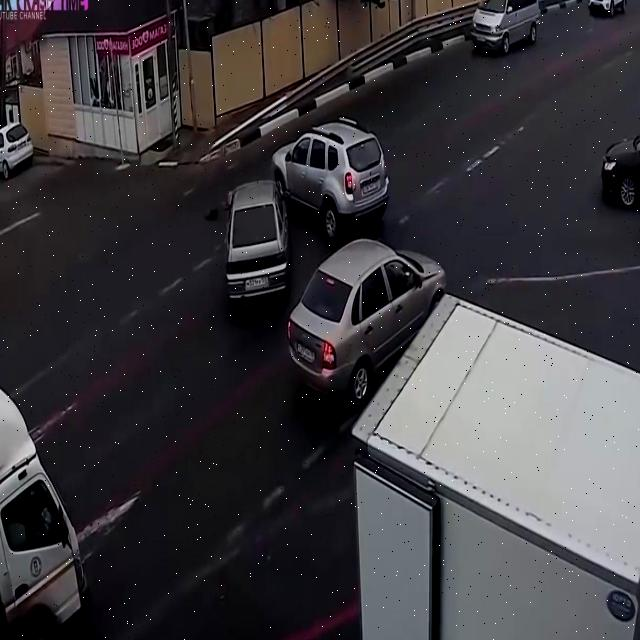accident: (201, 115, 403, 322)
